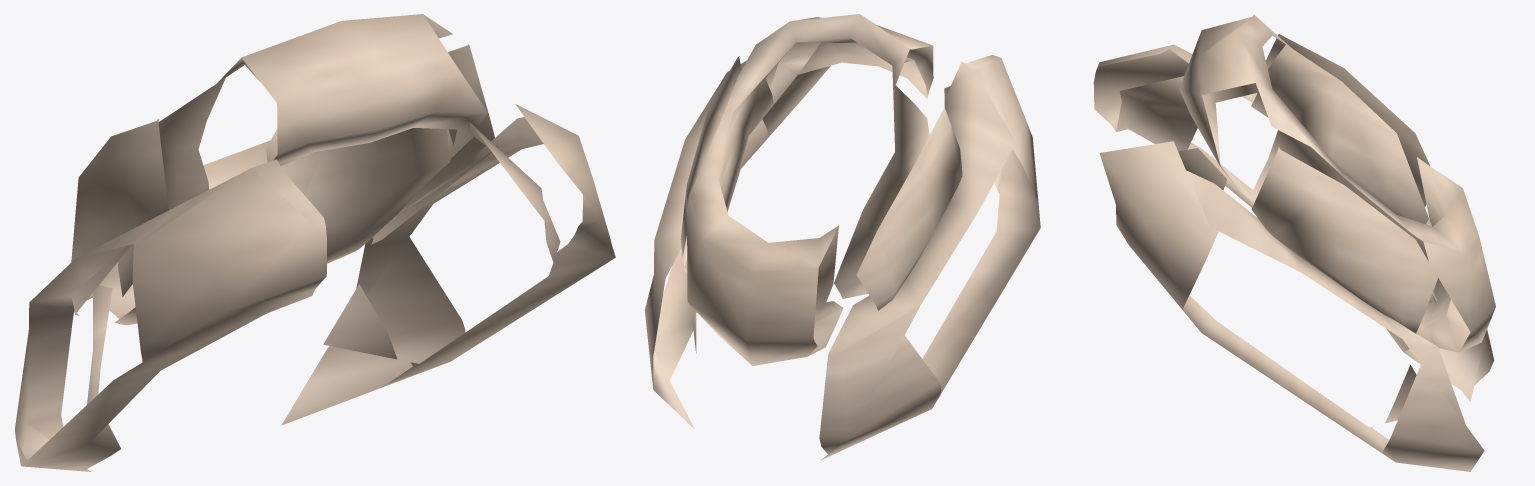
Rendered from maya_fem_3.dae.
The picture shows the model from 3 angles, left to right: view 1: azimuth 30°, elevation 25°; view 2: azimuth 150°, elevation 25°; view 3: azimuth 270°, elevation 25°; orthographic projection. The views are drawn at different scales.
Parts seen in each view (by area): view 1: faixa_grande_fem_3; view 2: faixa_grande_fem_3; view 3: faixa_grande_fem_3.
Part boxes in pixels (x1=…): faixa_grande_fem_3: x1=15, y1=14, x2=615, y2=471; faixa_grande_fem_3: x1=644, y1=14, x2=1040, y2=459; faixa_grande_fem_3: x1=1093, y1=15, x2=1495, y2=471.
Bounding box in the file's own units: 0.3756 × 0.3883 × 0.4045.
